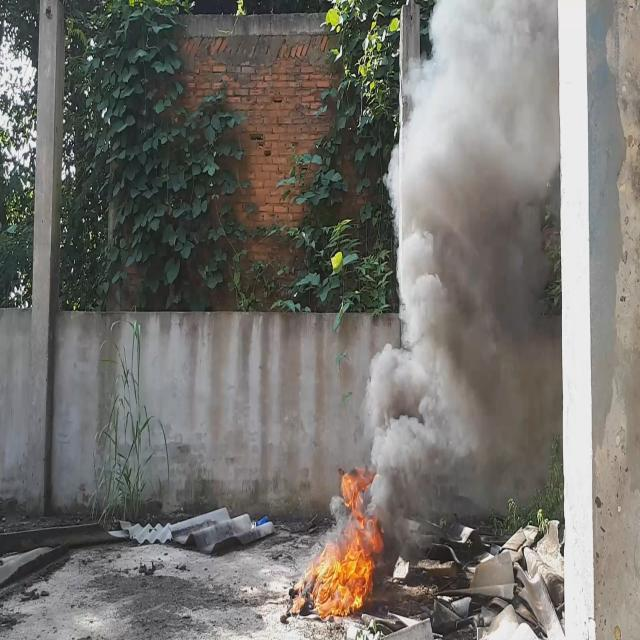Fire: (306, 470, 384, 616)
Smoke: (370, 0, 560, 525)
